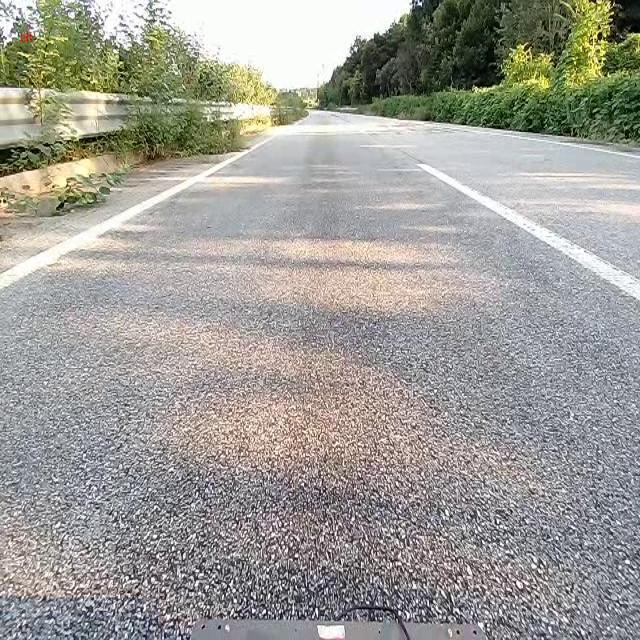Lane: (0, 125, 283, 293), (0, 133, 276, 291), (415, 153, 640, 305), (420, 163, 639, 300)
